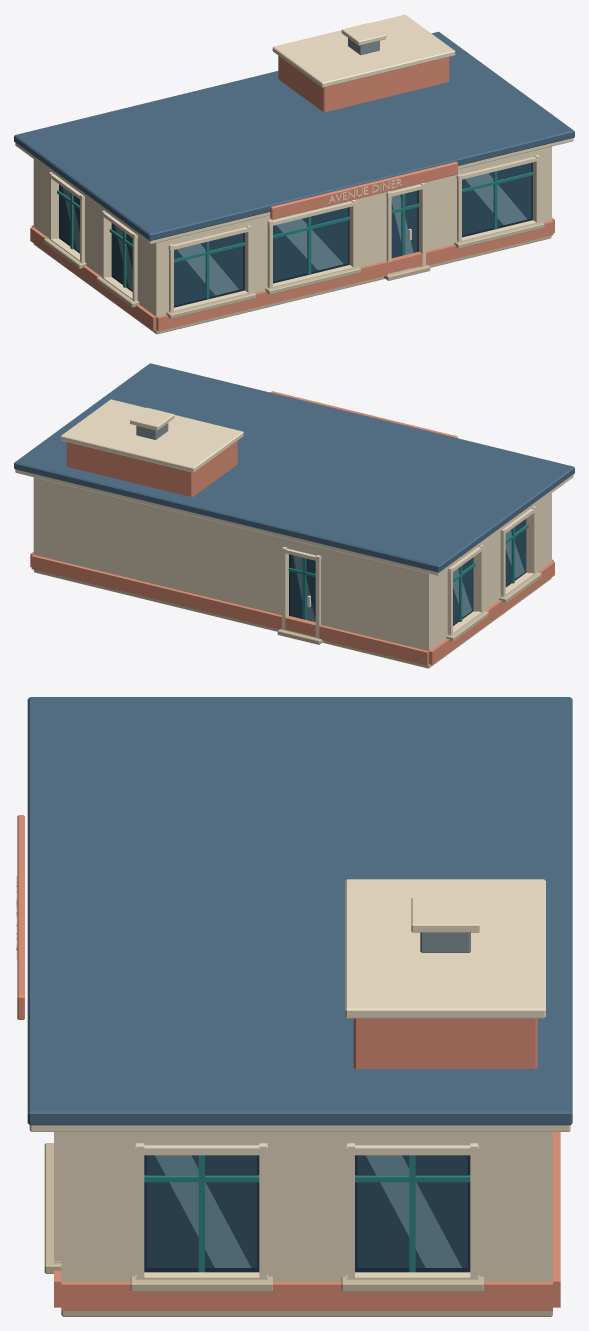
Rendered from avenue_diner.glb.
The picture shows the model from 3 angles, top to bottom: view 1: azimuth 30°, elevation 25°; view 2: azimuth 150°, elevation 25°; view 3: azimuth 270°, elevation 25°; orthographic projection. The views are drawn at different scales.
Parts seen in each view (by area): view 1: AvenueDiner_StaticMesh; view 2: AvenueDiner_StaticMesh; view 3: AvenueDiner_StaticMesh.
Boxes of the visible parts, x1,y1,x2,y2 form: AvenueDiner_StaticMesh: (14,14,574,334); AvenueDiner_StaticMesh: (14,363,574,668); AvenueDiner_StaticMesh: (16,697,572,1316).
Size of the model in its own units: 14 by 4.98 by 7.92.
